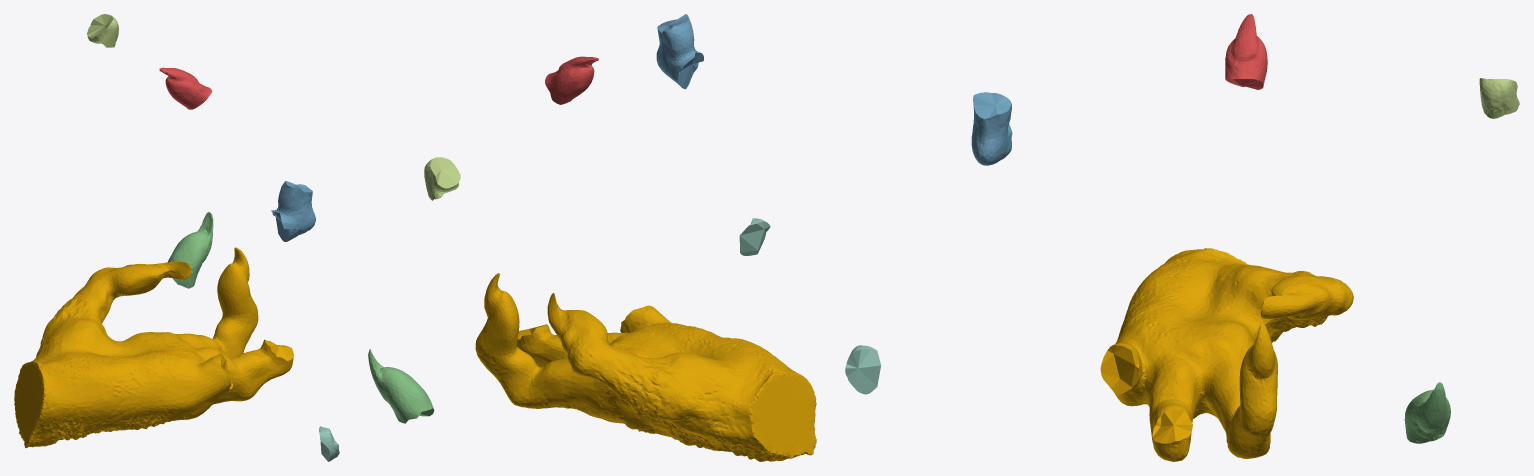
Rendered from fractured_53_6pcs_transformed.glb.
The picture shows the model from 3 angles, left to right: view 1: azimuth 30°, elevation 25°; view 2: azimuth 150°, elevation 25°; view 3: azimuth 270°, elevation 25°; orthographic projection. The views are drawn at different scales.
Parts seen in each view (by area): view 1: piece_0.obj, piece_2.obj, piece_3.obj, piece_1.obj, piece_5.obj, piece_4.obj; view 2: piece_0.obj, piece_2.obj, piece_3.obj, piece_1.obj, piece_5.obj, piece_4.obj; view 3: piece_0.obj, piece_2.obj, piece_1.obj, piece_3.obj, piece_4.obj, piece_5.obj.
Boxes of the visible parts, box(x1,y1,x2,y2) form: piece_0.obj: box(14, 247, 293, 447); piece_2.obj: box(271, 181, 315, 241); piece_3.obj: box(168, 212, 213, 288); piece_1.obj: box(159, 67, 212, 109); piece_5.obj: box(87, 14, 118, 47); piece_4.obj: box(319, 426, 339, 461); piece_0.obj: box(475, 273, 816, 461); piece_2.obj: box(656, 14, 703, 89); piece_3.obj: box(368, 349, 434, 423); piece_1.obj: box(545, 56, 598, 104); piece_5.obj: box(424, 157, 460, 200); piece_4.obj: box(739, 218, 770, 255); piece_0.obj: box(1100, 248, 1353, 461); piece_2.obj: box(971, 92, 1012, 165); piece_1.obj: box(1225, 14, 1267, 89); piece_3.obj: box(1404, 382, 1450, 443); piece_4.obj: box(845, 345, 880, 394); piece_5.obj: box(1479, 78, 1519, 118).
Bounding box in the file's own units: 1 × 1.1 × 1.59.
